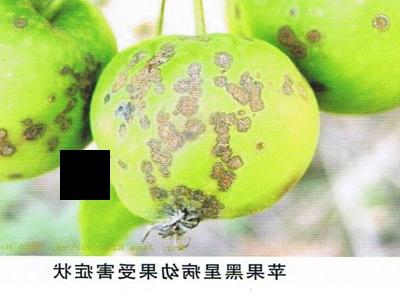rotten apple: (88, 36, 322, 227), (0, 1, 120, 183), (227, 1, 399, 116)
